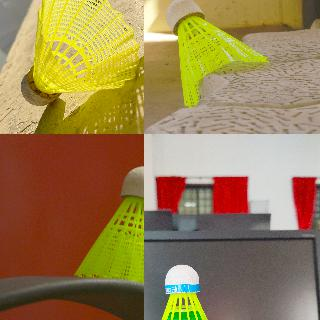shuttlecock: (20, 0, 140, 105), (165, 0, 269, 107), (74, 166, 143, 294), (146, 263, 227, 319)
